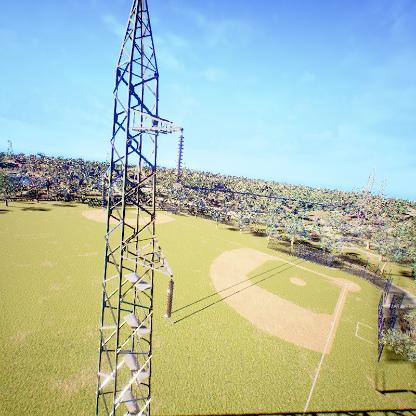tower: (89, 0, 190, 416)
